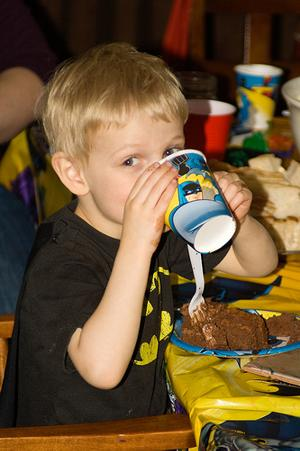person: (2, 41, 280, 432)
